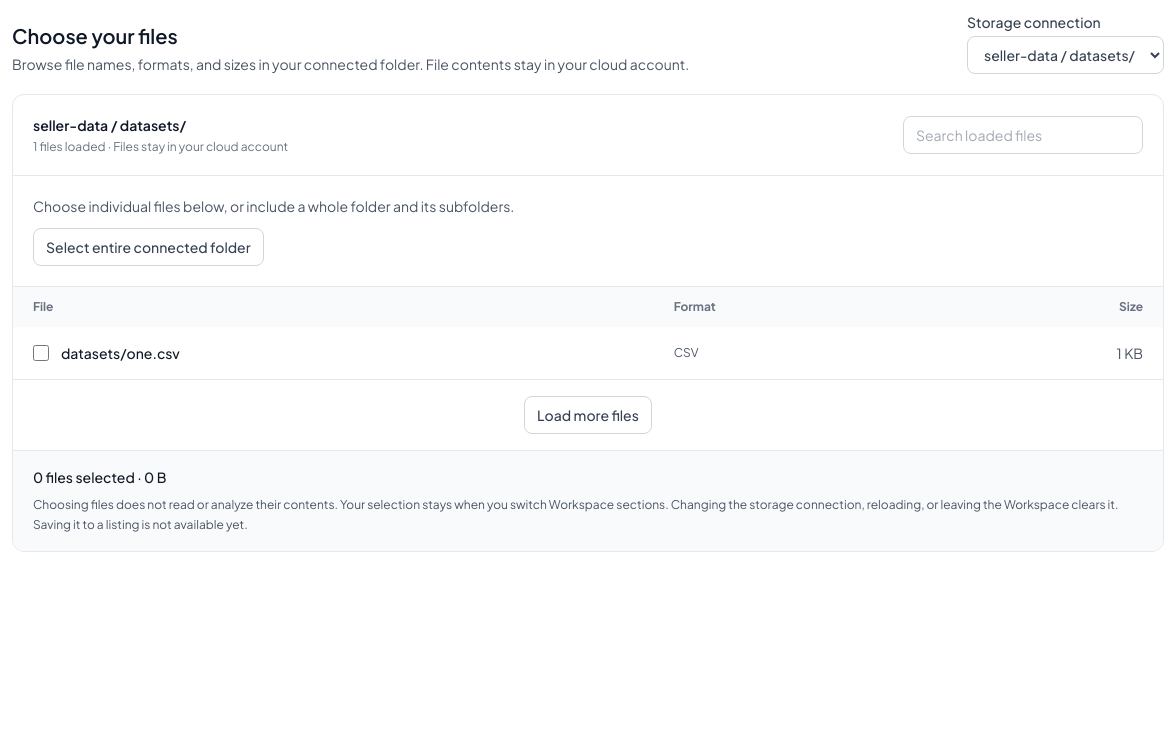
Test: Seller data browser › uses the pinned prefix, renders source names as text, and preserves pagination during search
Check: the text "datasets/one.csv" is shown, box [61, 343, 180, 363]
Type "script" into the search field with placeholder "Search loaded files".
click(1023, 135); type("script")  # box [903, 116, 1143, 154]
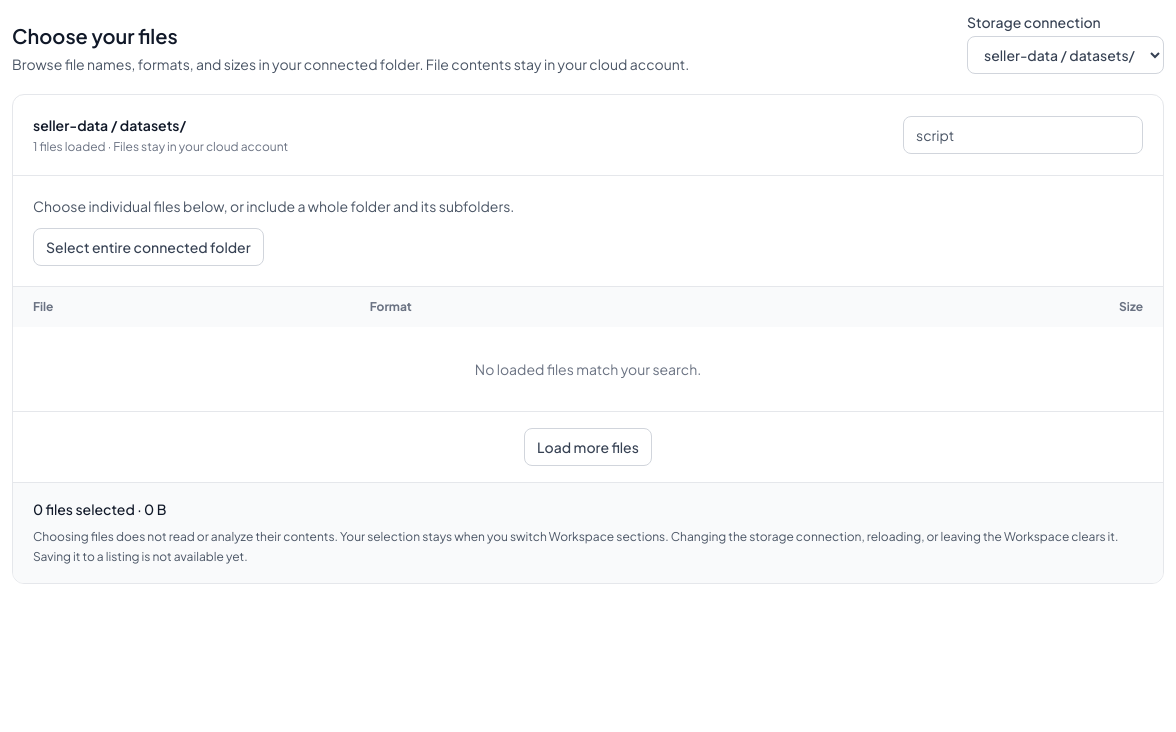
Check: the text "No loaded files match your search." is shown, box [475, 360, 701, 378]
Click the button "Load more files".
click(588, 447)  # box [524, 428, 652, 466]
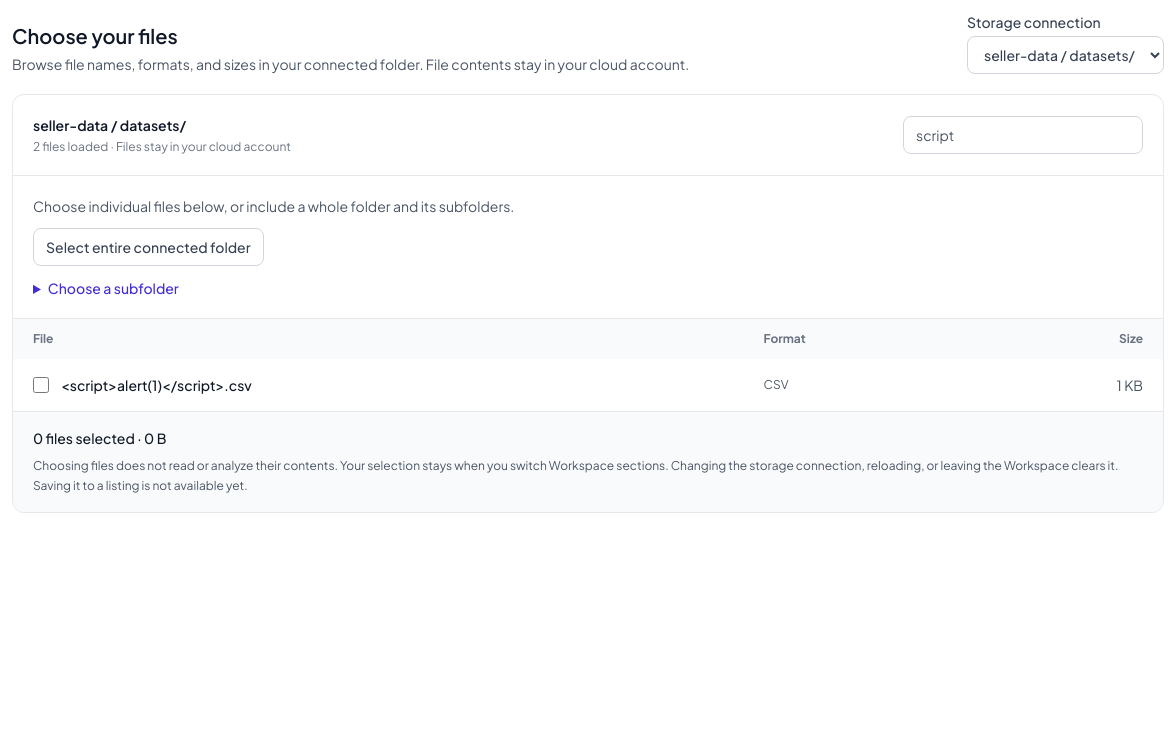
Check: the text "<script>alert(1)</script>.csv" is shown, box [61, 375, 252, 395]
